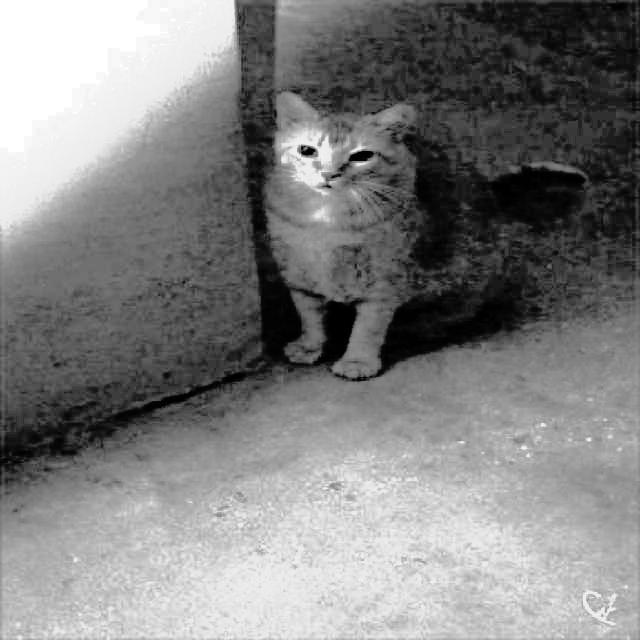Cat: (254, 86, 587, 383)
